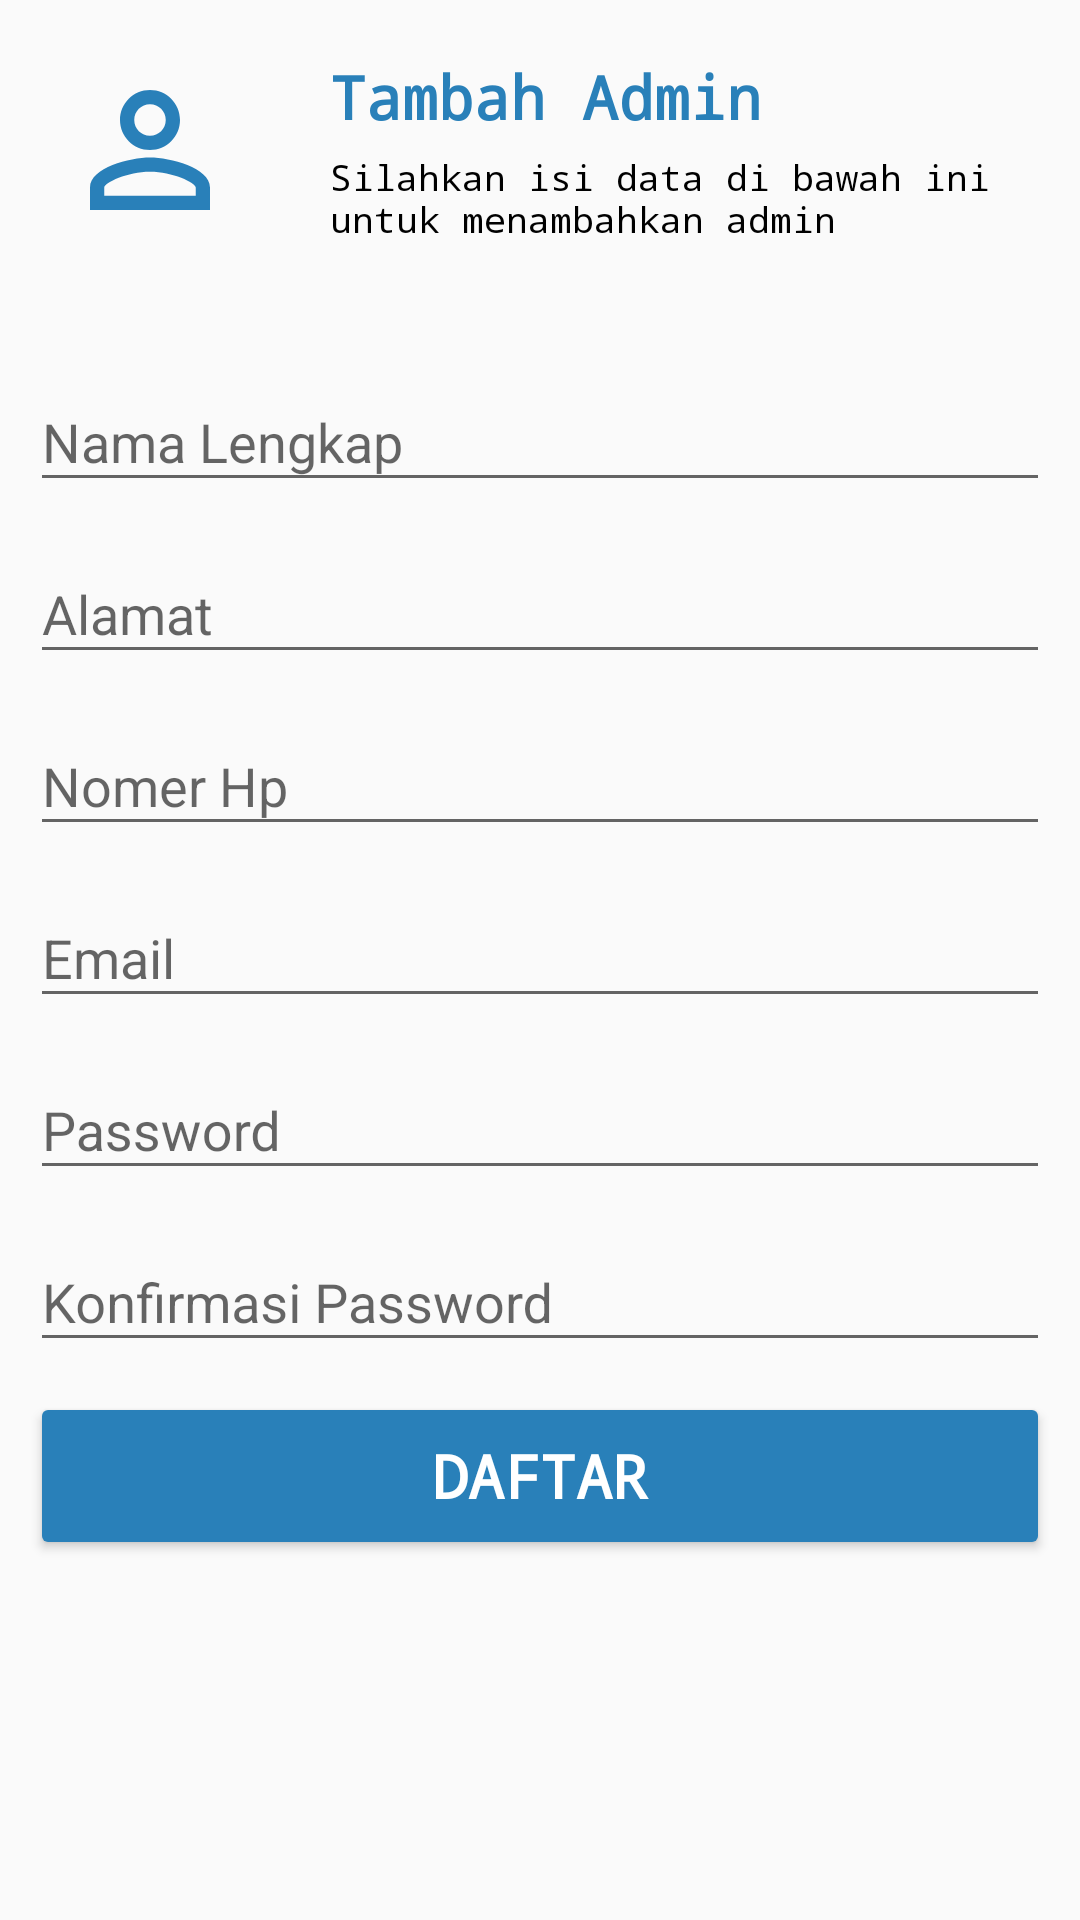

Icons on this 1080×1920 Android screen, each with the point to tap as point (x, y):
user: point (150, 150)
